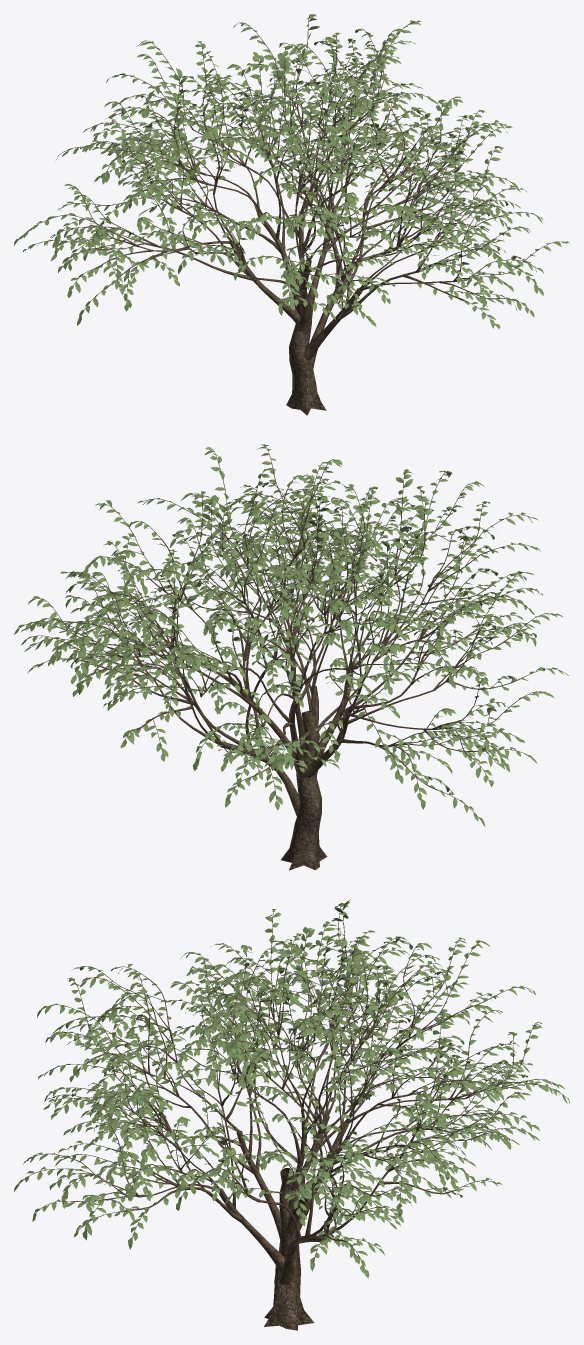
File: Cornus_tree_small.glb
The picture shows the model from 3 angles, top to bottom: view 1: azimuth 30°, elevation 25°; view 2: azimuth 150°, elevation 25°; view 3: azimuth 270°, elevation 25°; orthographic projection. The views are drawn at different scales.
Parts seen in each view (by area): view 1: Cornus_tree_small; view 2: Cornus_tree_small; view 3: Cornus_tree_small.
Part boxes in pixels (box(x1,y1,x2,y2)): Cornus_tree_small: box(14, 14, 569, 415); Cornus_tree_small: box(14, 444, 569, 870); Cornus_tree_small: box(14, 899, 569, 1330).
Size of the model in its own units: 8.92 by 6.89 by 8.65.
2 materials, 2 textured.
